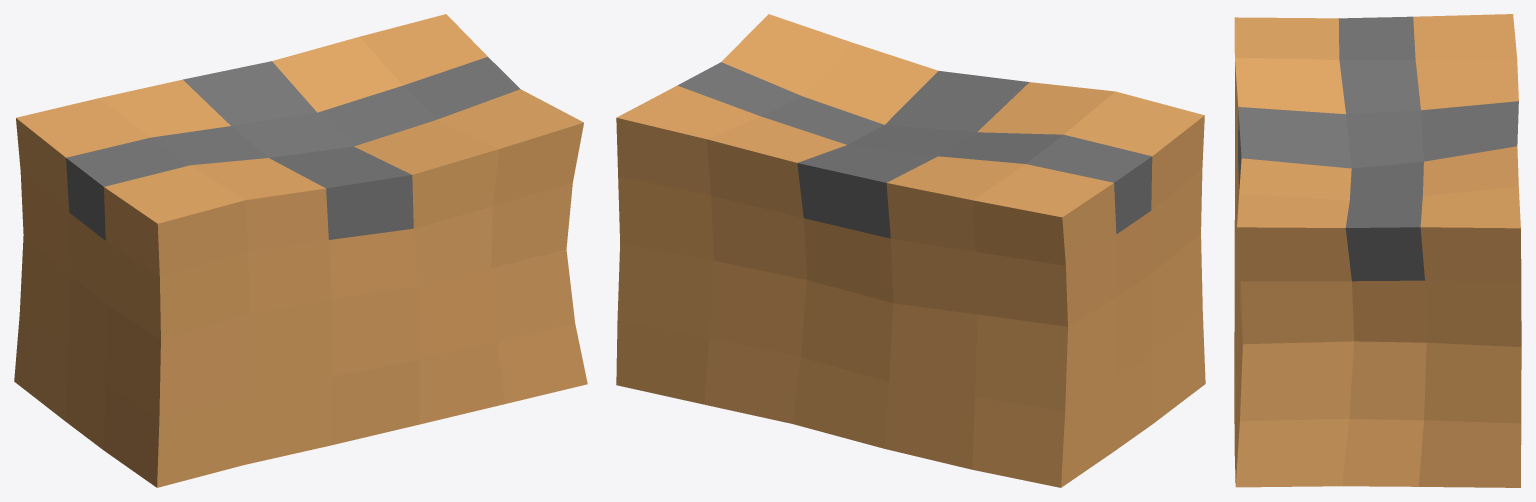
File: carton4.fbx
The picture shows the model from 3 angles, left to right: view 1: azimuth 30°, elevation 25°; view 2: azimuth 150°, elevation 25°; view 3: azimuth 270°, elevation 25°; orthographic projection. The views are drawn at different scales.
Visible parts, largest first — view 1: Cube.017; view 2: Cube.017; view 3: Cube.017.
Part boxes in pixels (x1,y1,x2,y2): Cube.017: [14, 14, 587, 487]; Cube.017: [616, 14, 1205, 487]; Cube.017: [1234, 14, 1521, 487].
Bounding box in the file's own units: 571 × 339 × 331.
Materials: 1 (1 with a texture image).
